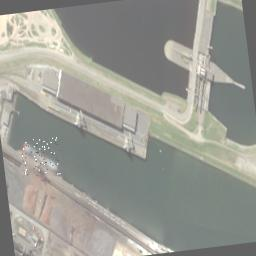boat: (21, 140, 63, 174)
